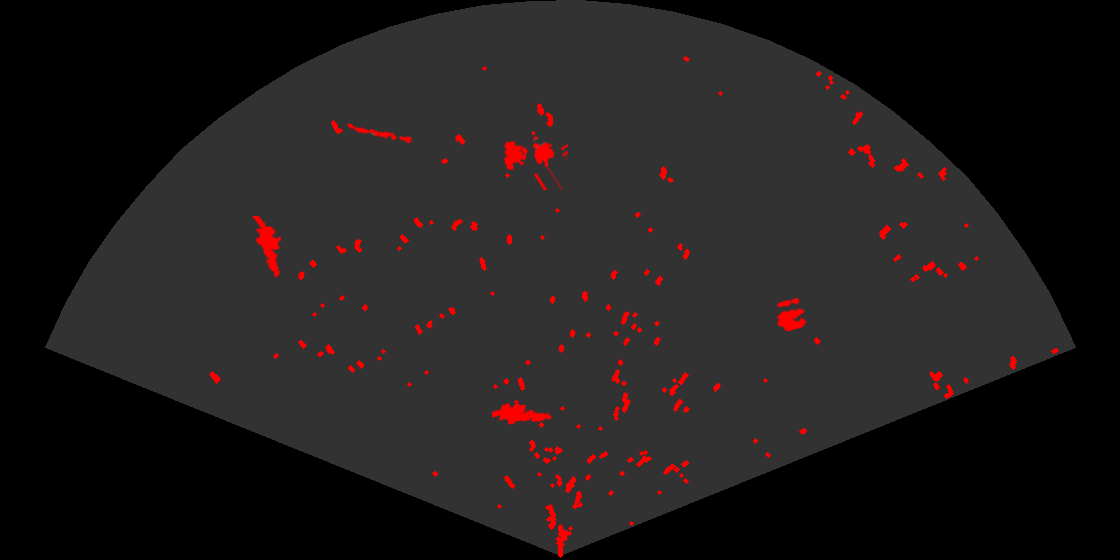ball: (775, 296, 808, 333)
cage: (502, 129, 568, 190)
chain: (345, 122, 413, 145)
frogman: (251, 216, 283, 279), (492, 398, 554, 426)
